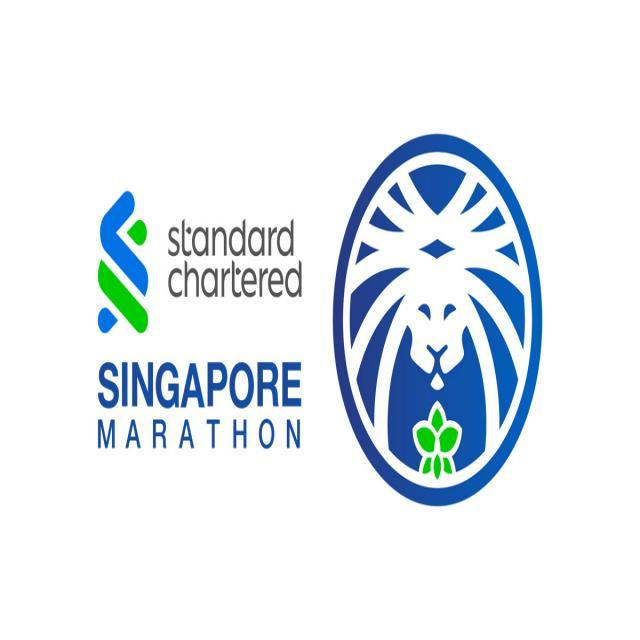Standard Chartered: (97, 188, 303, 334)
